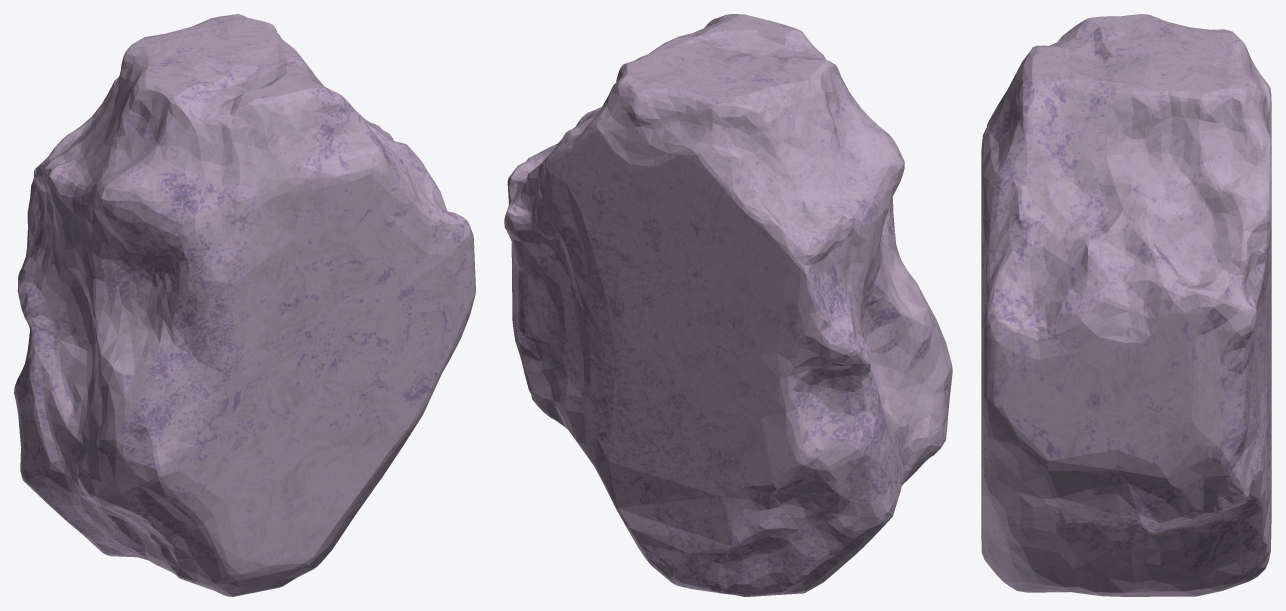
The model's file is 1rock1.glb.
3 renders of one model, left to right at view 1: azimuth 30°, elevation 25°; view 2: azimuth 150°, elevation 25°; view 3: azimuth 270°, elevation 25°, orthographic. The views are drawn at different scales.
Visible parts, largest first — view 1: rock1; view 2: rock1; view 3: rock1.
Boxes of the visible parts, x1,y1,x2,y2 form: rock1: (14, 14, 475, 596); rock1: (504, 14, 952, 596); rock1: (981, 14, 1271, 596).
Bounding box in the file's own units: 2.26 × 2.86 × 1.43.
Materials: 1 (1 with a texture image).
